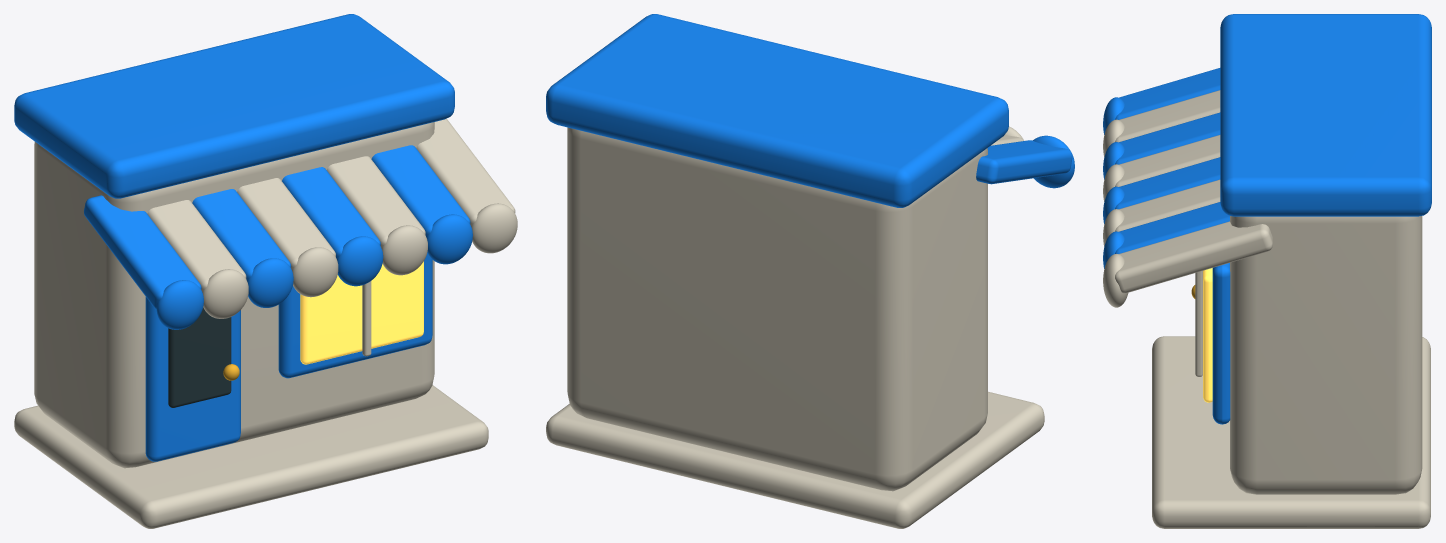
Rendered from storefront.glb.
3 renders of one model, left to right at view 1: azimuth 30°, elevation 25°; view 2: azimuth 150°, elevation 25°; view 3: azimuth 270°, elevation 25°, orthographic. The views are drawn at different scales.
Parts seen in each view (by area): view 1: Blue shop cornice, Cream shop building, Cream shop doorstep, Glowing shop window, Blue door surround, Awning stripe 0, Door glass, Awning stripe 7, Blue window surround, Awning stripe 1, Awning stripe 2, Awning stripe 6 (+12 smaller); view 2: Cream shop building, Blue shop cornice, Cream shop doorstep, Awning stripe 0, Scalloped awning edge 0; view 3: Cream shop building, Blue shop cornice, Cream shop doorstep, Awning stripe 7, Blue window surround, Awning stripe 6, Awning stripe 4, Awning stripe 0, Awning stripe 1, Awning stripe 2, Awning stripe 3, Awning stripe 5 (+10 smaller).
Boxes of the visible parts, x1,y1,x2,y2 form: Blue shop cornice: [14, 14, 454, 198]; Cream shop building: [34, 122, 434, 468]; Cream shop doorstep: [14, 385, 488, 528]; Glowing shop window: [300, 261, 423, 364]; Blue door surround: [145, 297, 240, 461]; Awning stripe 0: [84, 195, 201, 309]; Door glass: [168, 307, 231, 407]; Awning stripe 7: [416, 118, 515, 226]; Blue window surround: [278, 253, 432, 378]; Awning stripe 1: [147, 200, 246, 291]; Awning stripe 2: [192, 189, 291, 280]; Awning stripe 6: [371, 145, 470, 237]; Cream shop building: [567, 127, 987, 491]; Blue shop cornice: [546, 14, 1008, 207]; Cream shop doorstep: [546, 391, 1044, 528]; Awning stripe 0: [976, 140, 1072, 184]; Scalloped awning edge 0: [1033, 135, 1074, 188]; Cream shop building: [1230, 216, 1422, 494]; Blue shop cornice: [1220, 14, 1431, 216]; Cream shop doorstep: [1152, 336, 1430, 528]; Awning stripe 7: [1115, 221, 1272, 293]; Blue window surround: [1212, 263, 1230, 424]; Awning stripe 6: [1115, 202, 1229, 253]; Awning stripe 4: [1115, 157, 1220, 209]; Awning stripe 0: [1115, 68, 1220, 119]; Awning stripe 1: [1115, 90, 1220, 142]; Awning stripe 2: [1115, 112, 1220, 164]; Awning stripe 3: [1115, 135, 1220, 186]; Awning stripe 5: [1115, 179, 1220, 231].
Size of the model in its own units: 3.69 by 3.37 by 2.86.
